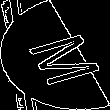M_E: (11, 24, 99, 86)
